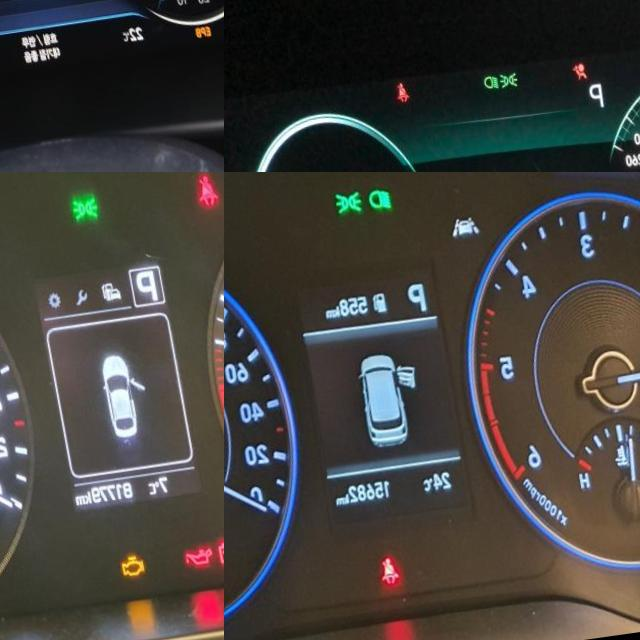LaneCenteringOff: (443, 225, 473, 247)
Low beam: (361, 193, 387, 220), (477, 82, 493, 98)
SideLamp: (65, 202, 94, 230), (327, 196, 357, 222), (493, 79, 514, 98)
